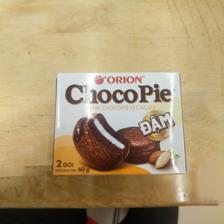Chocopie_cacao: (52, 70, 189, 177)
